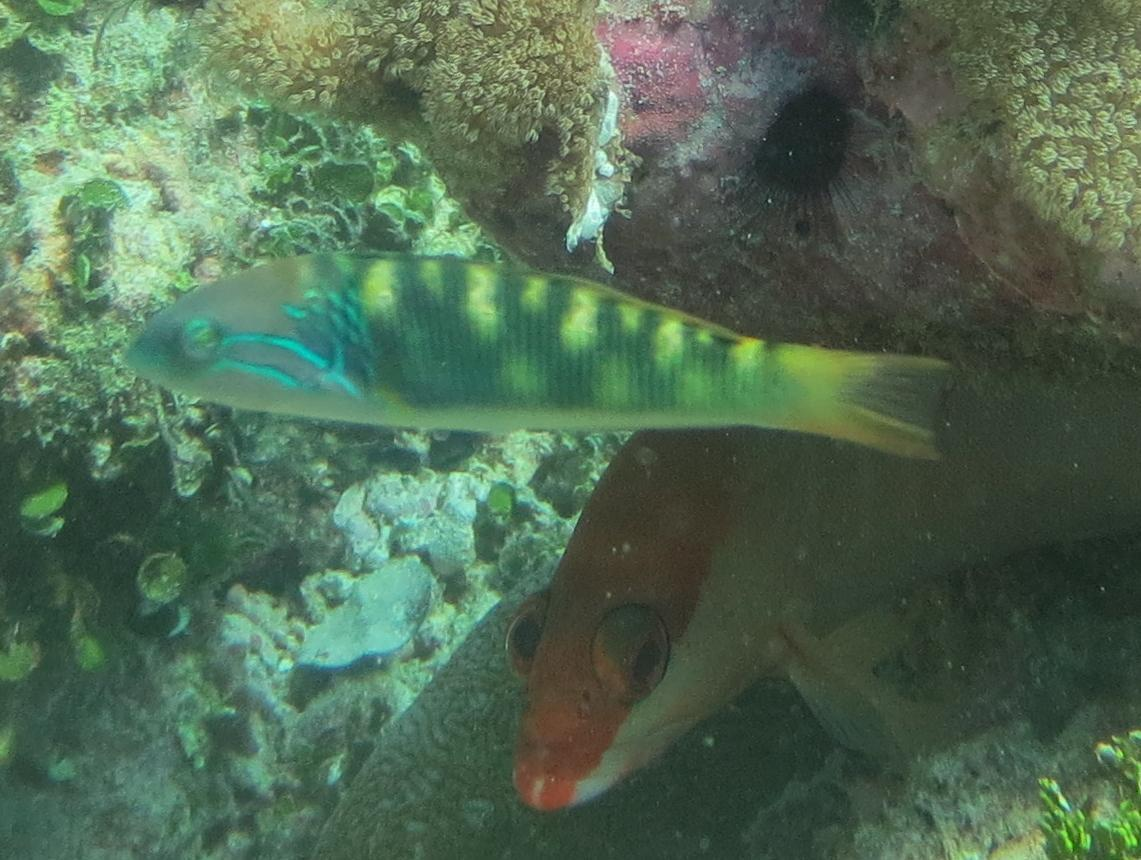Fish: (117, 248, 952, 482)
